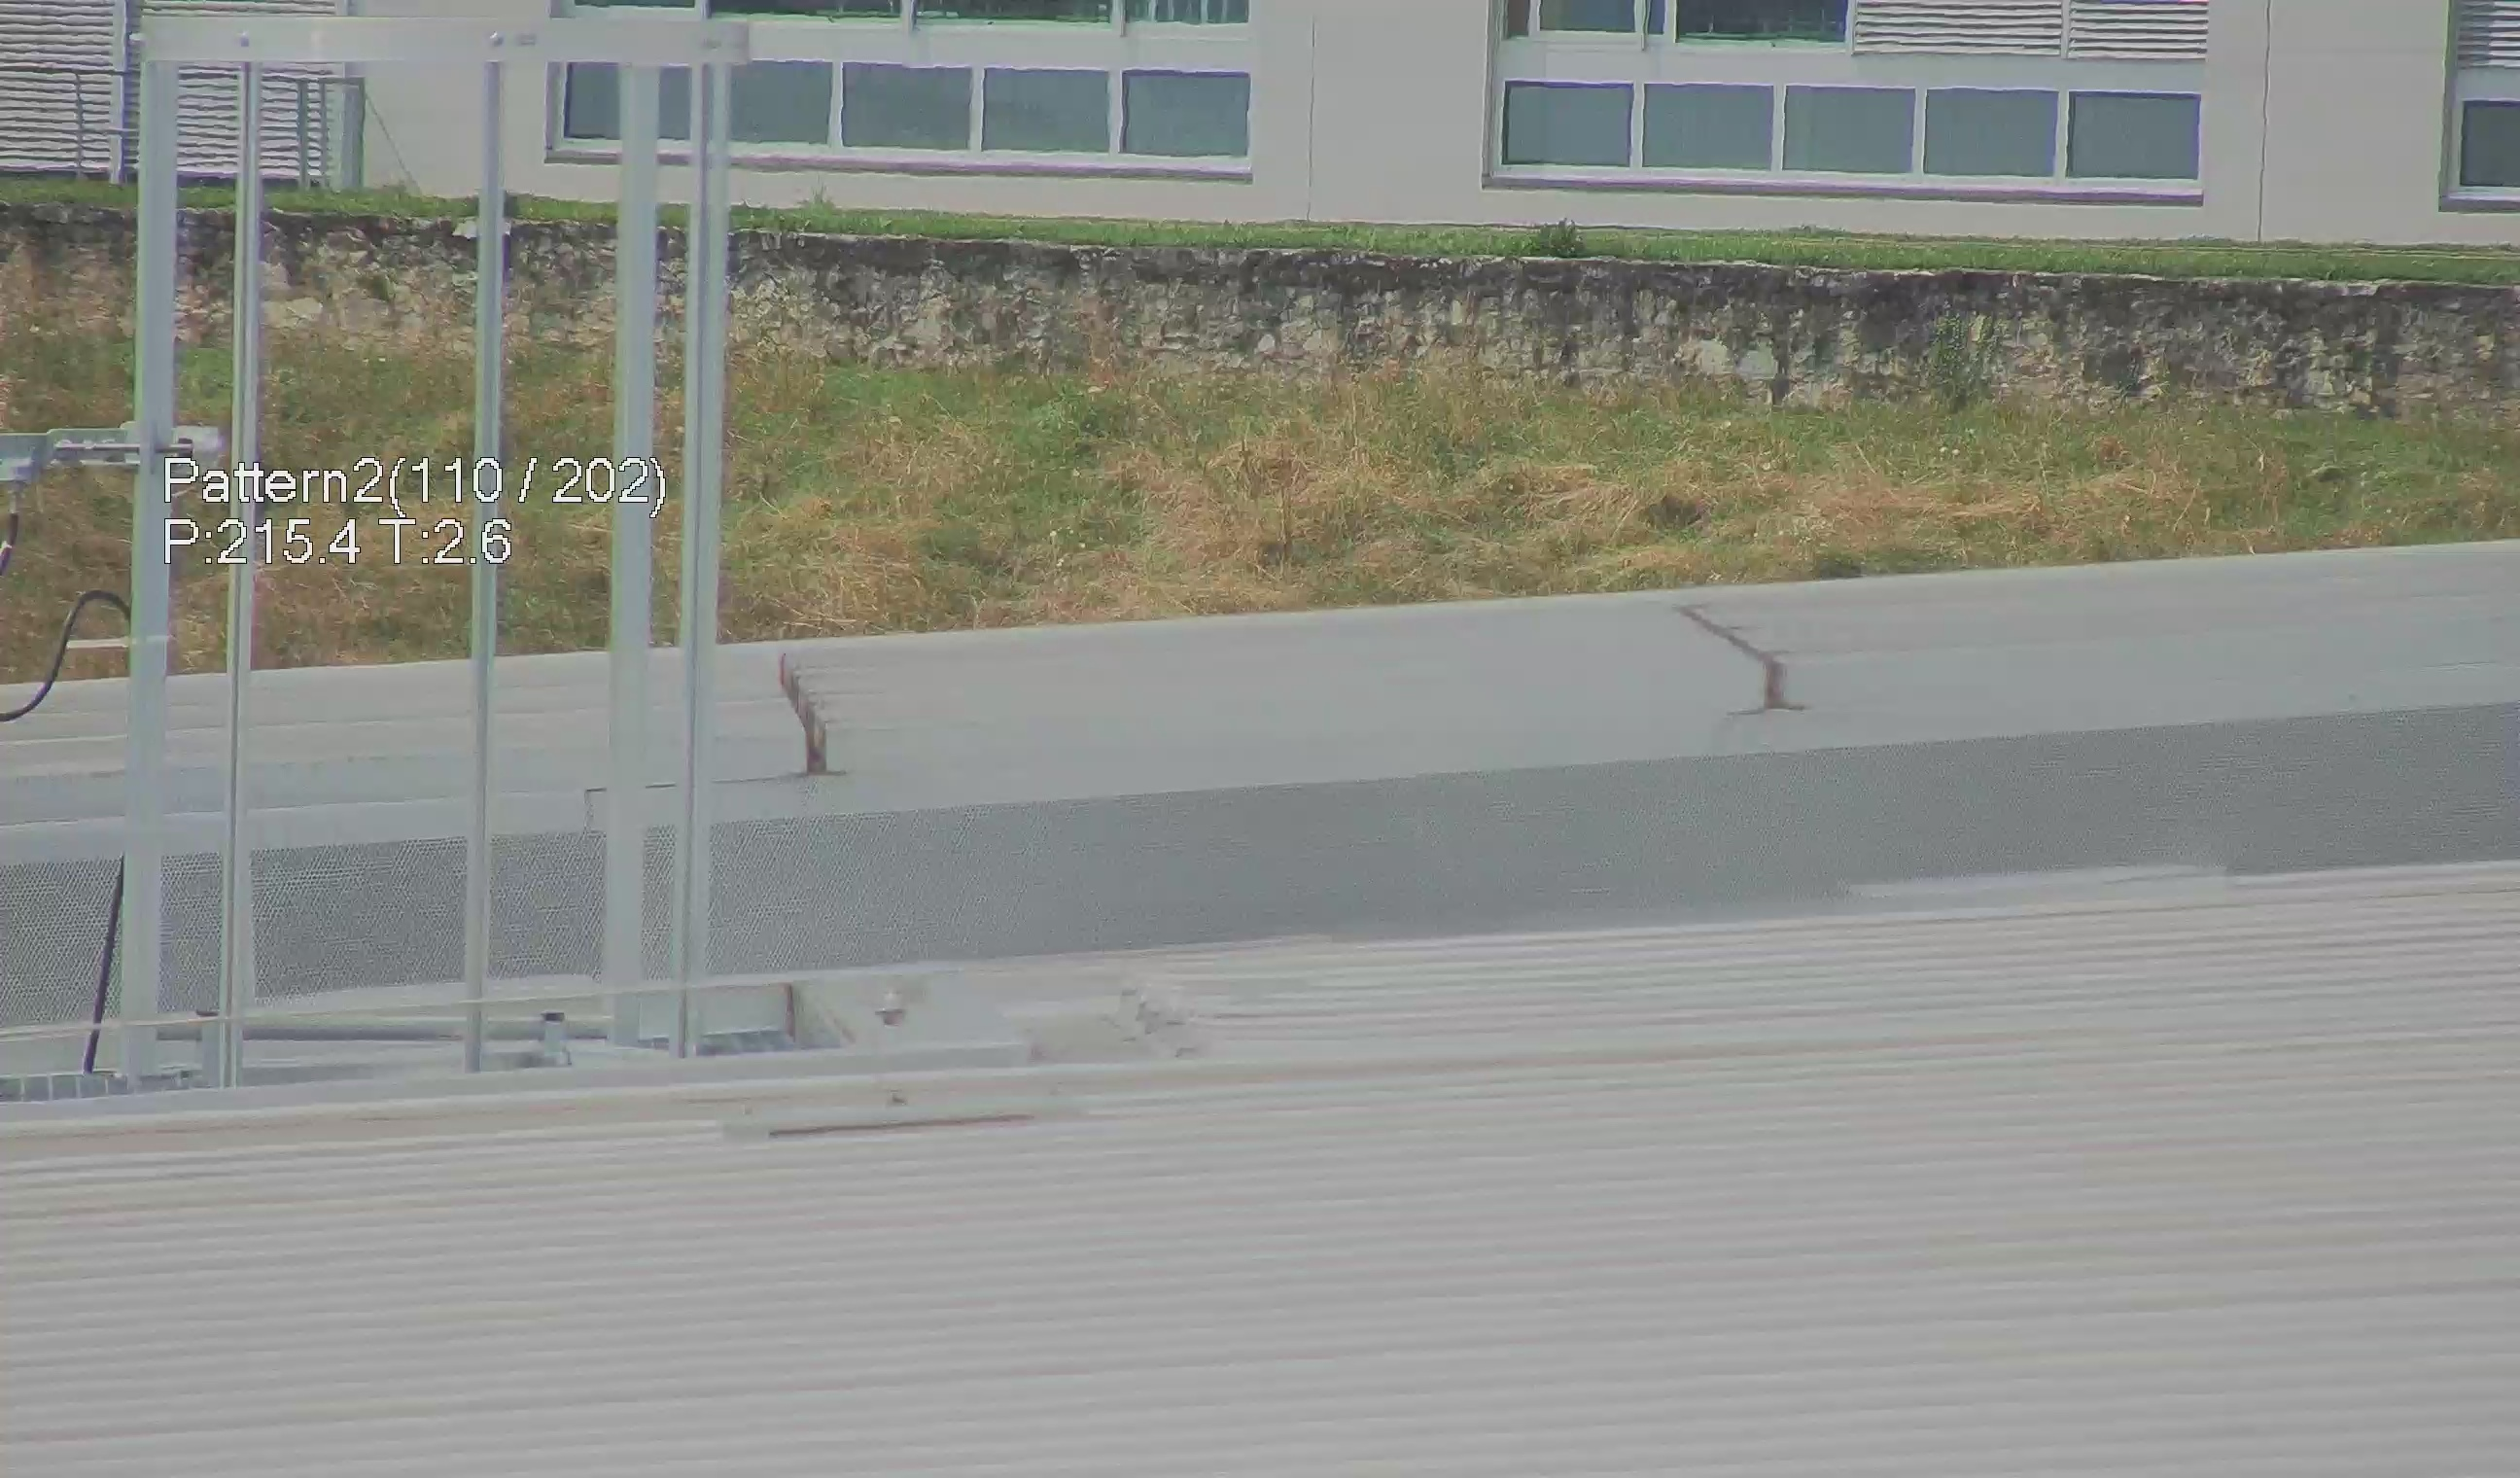Other: (744, 633, 844, 785)
